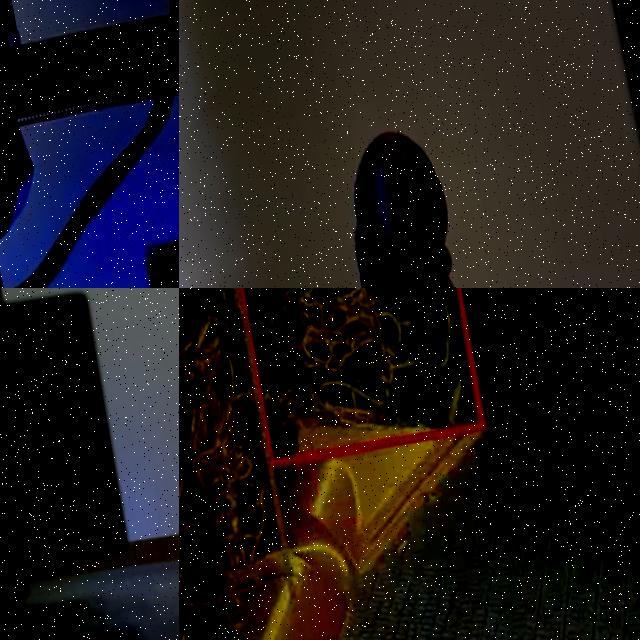spaghetti: (179, 288, 297, 640), (242, 288, 471, 454), (2, 585, 27, 621)
